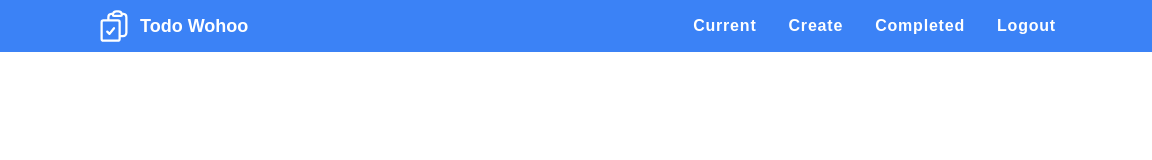
Test: NavBar Component › will able to logut user › renders a current link text
This screenshot has width=1152, height=160.
Click the text "Logout": (1026, 26) [997,14,1056,38]
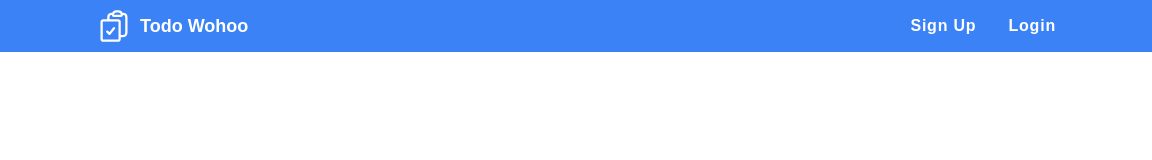
Check: the link "Sign Up" is shown, box [910,14,976,38]
Check: the text "Logout" is gone
